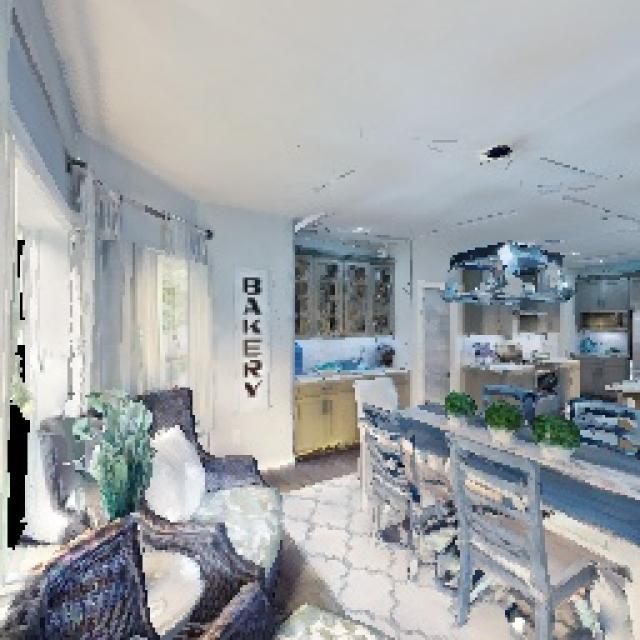chair: (443, 431, 610, 640), (358, 406, 468, 589)
sofa: (98, 350, 317, 596)
table: (354, 372, 640, 636)
